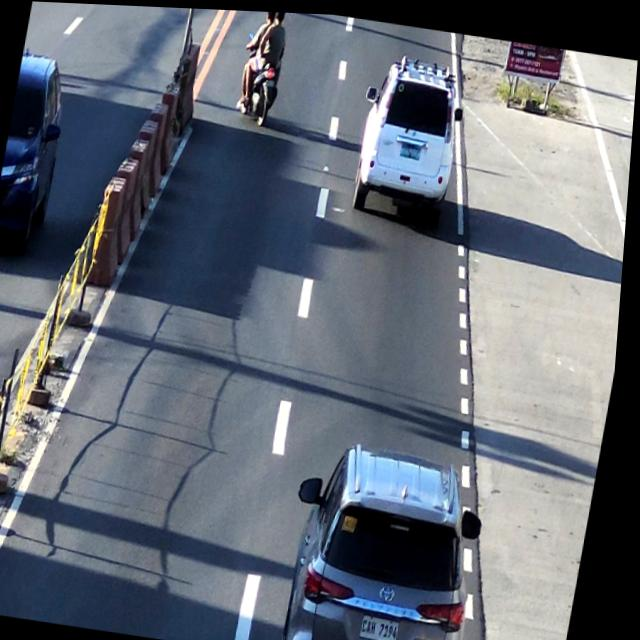Car: (282, 433, 502, 640), (352, 52, 473, 221)
License-Plate: (367, 611, 412, 640), (398, 135, 425, 157)
Motorcycle: (232, 8, 295, 124)
